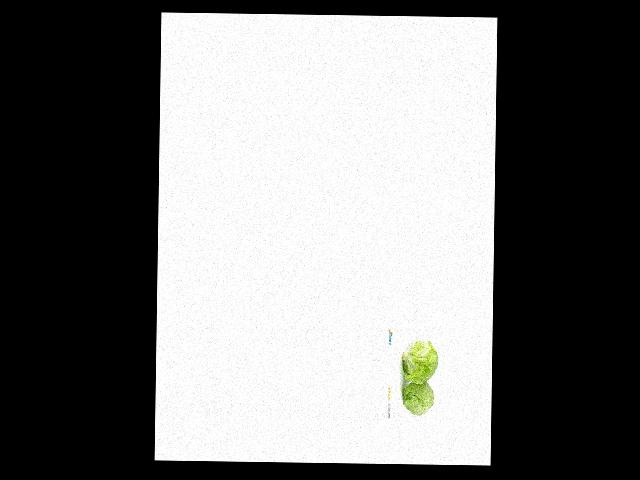lettuce: (395, 371, 434, 417)
